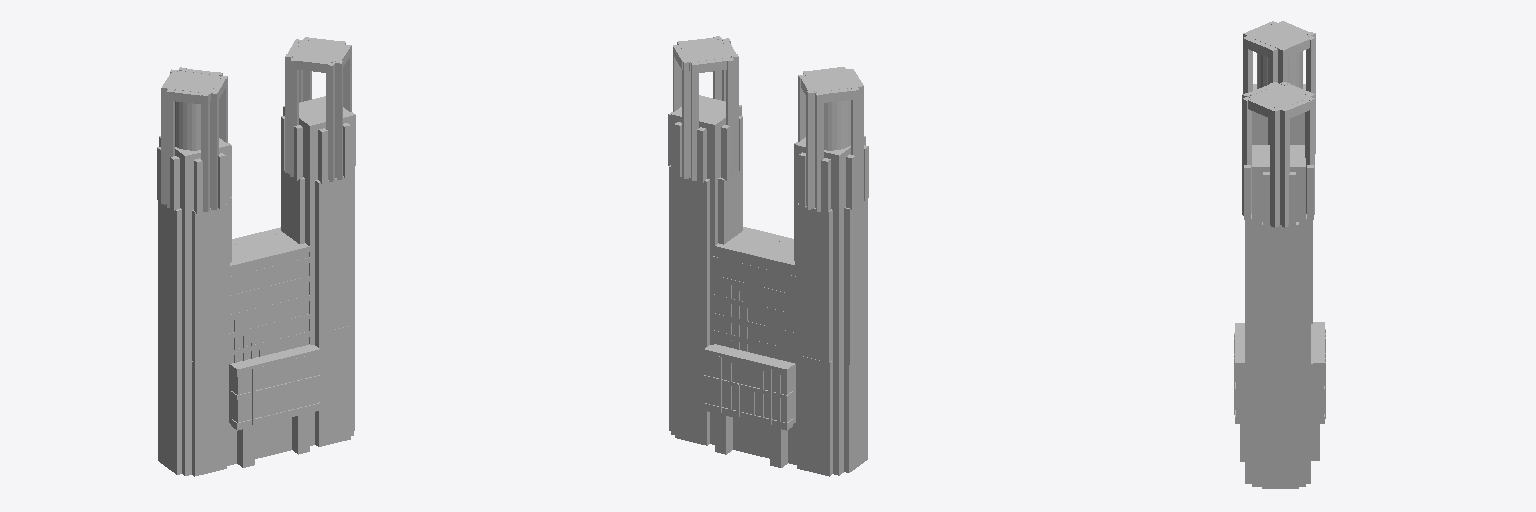
Rendered from totyoo.obj.
The picture shows the model from 3 angles: view 1: azimuth 30°, elevation 25°; view 2: azimuth 150°, elevation 25°; view 3: azimuth 270°, elevation 25°; orthographic projection.
Visible parts, largest first — view 1: 立方体.1956_立方体.003, 立方体.1956_立方体.001_立方体.1956_立方体.004, 立方体.036_立方体.051, Cube.001, Cube.007_Cube.083_Cube.007_Cube.002, Cube.007_Cube.001_Cube.007_Cube.003, 立方体.085_立方体.100, 円柱.001, 立方体.084_立方体.099, 立方体.083_立方体.098; view 2: 立方体.1956_立方体.003, 立方体.1956_立方体.001_立方体.1956_立方体.004, 立方体.036_立方体.051, Cube.001, Cube.007_Cube.083_Cube.007_Cube.002, Cube.007_Cube.001_Cube.007_Cube.003, 立方体_立方体.047, 円柱.001, 立方体.034_立方体.049, 立方体.033_立方体.048; view 3: 立方体.1956_立方体.001_立方体.1956_立方体.004, Cube.007_Cube.001_Cube.007_Cube.003, 立方体.1956_立方体.003, 立方体.036_立方体.051, 円柱.001, 立方体_立方体.047, Cube.007_Cube.083_Cube.007_Cube.002.
Boxes of the visible parts, <box> form: 立方体.1956_立方体.003: <box>157,67,231,476</box>; 立方体.1956_立方体.001_立方体.1956_立方体.004: <box>281,37,355,446</box>; 立方体.036_立方体.051: <box>228,227,320,430</box>; Cube.001: <box>230,233,308,464</box>; Cube.007_Cube.083_Cube.007_Cube.002: <box>159,136,229,475</box>; Cube.007_Cube.001_Cube.007_Cube.003: <box>283,96,353,445</box>; 立方体.085_立方体.100: <box>229,344,318,423</box>; 円柱.001: <box>175,101,200,150</box>; 立方体.084_立方体.099: <box>237,426,254,467</box>; 立方体.083_立方体.098: <box>292,413,309,454</box>; 立方体.1956_立方体.003: <box>794,67,868,476</box>; 立方体.1956_立方体.001_立方体.1956_立方体.004: <box>668,36,742,445</box>; 立方体.036_立方体.051: <box>704,227,796,430</box>; Cube.001: <box>715,232,794,464</box>; Cube.007_Cube.083_Cube.007_Cube.002: <box>795,136,865,475</box>; Cube.007_Cube.001_Cube.007_Cube.003: <box>671,95,741,444</box>; 立方体_立方体.047: <box>705,344,795,423</box>; 円柱.001: <box>824,100,850,150</box>; 立方体.034_立方体.049: <box>770,427,787,467</box>; 立方体.033_立方体.048: <box>715,413,732,454</box>; 立方体.1956_立方体.001_立方体.1956_立方体.004: <box>1242,82,1314,488</box>; Cube.007_Cube.001_Cube.007_Cube.003: <box>1252,145,1305,486</box>; 立方体.1956_立方体.003: <box>1243,21,1315,323</box>; 立方体.036_立方体.051: <box>1234,322,1325,423</box>; 円柱.001: <box>1257,51,1302,88</box>; 立方体_立方体.047: <box>1311,324,1323,422</box>; Cube.007_Cube.083_Cube.007_Cube.002: <box>1252,84,1305,144</box>.
Size of the model in its own units: 32.01 by 62.31 by 13.6.